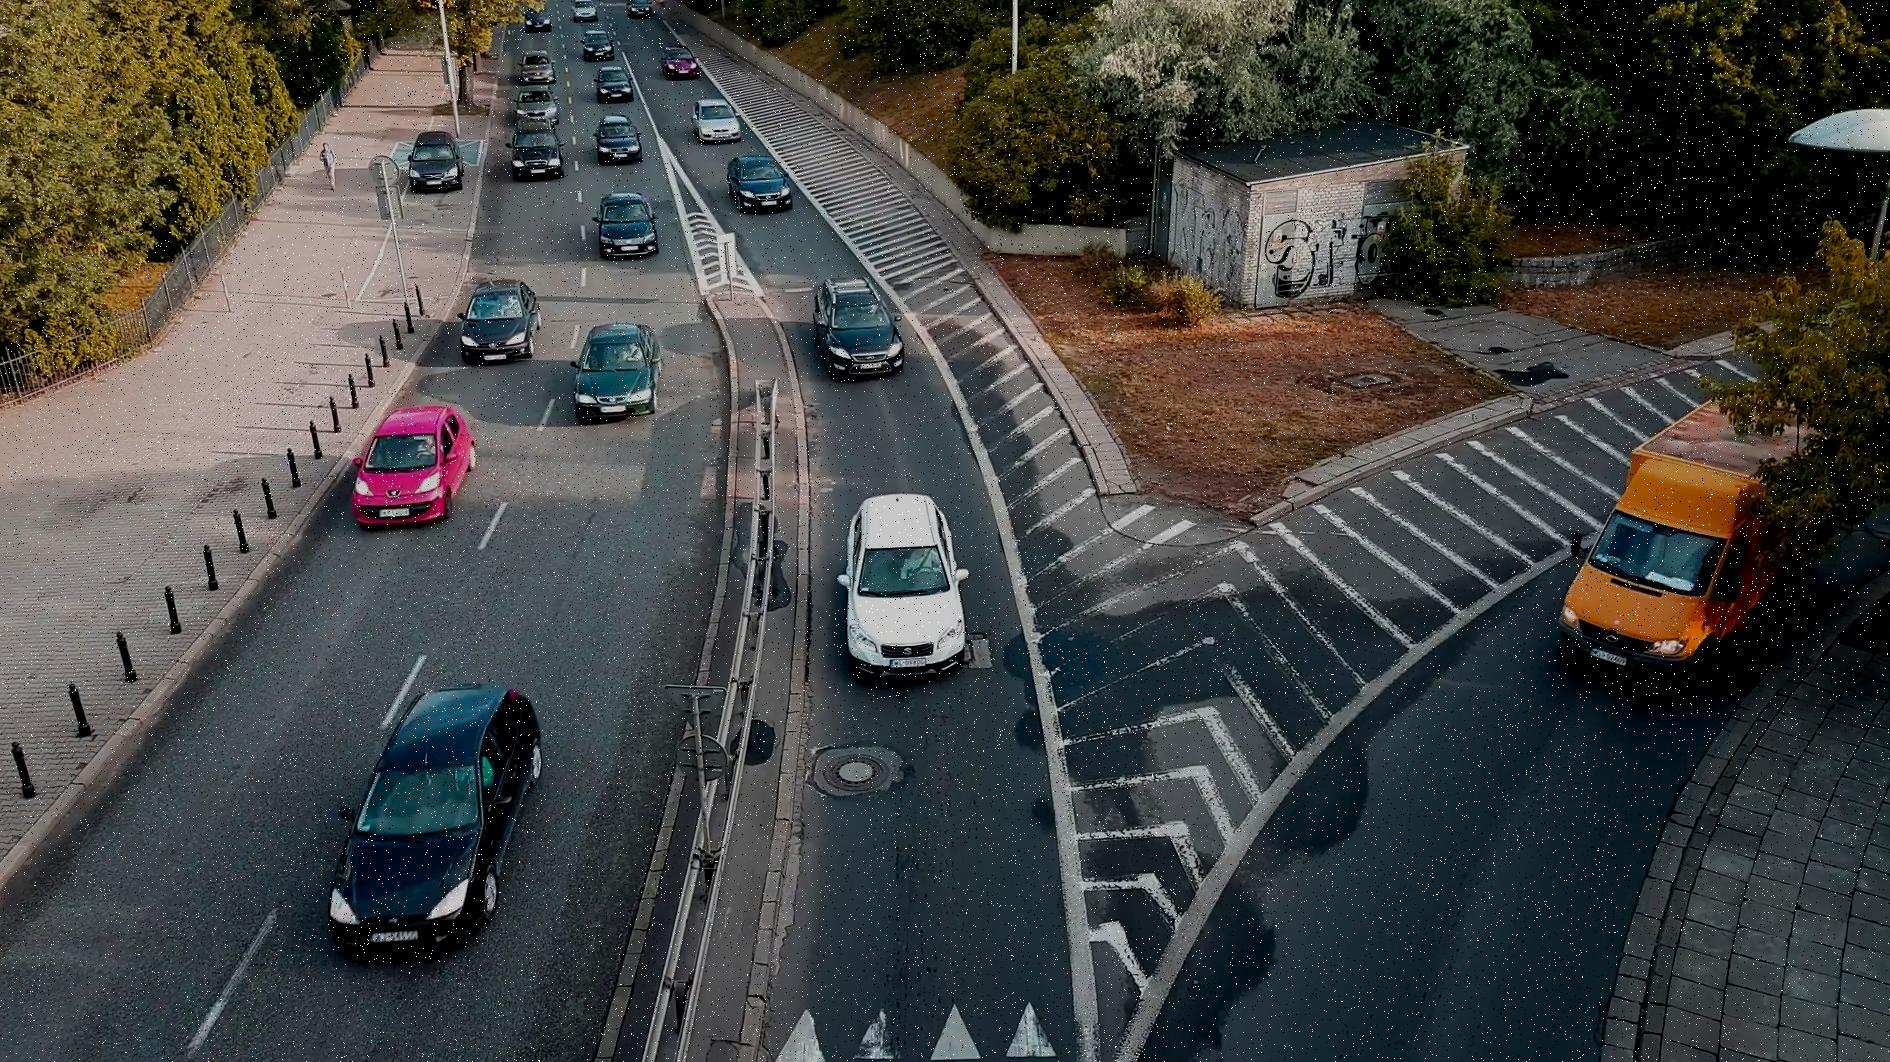car: (319, 675, 550, 957), (832, 492, 975, 679), (350, 400, 482, 530), (558, 309, 671, 426), (810, 262, 902, 378), (462, 274, 540, 361), (593, 179, 662, 267), (723, 148, 798, 217), (405, 123, 470, 196), (505, 116, 567, 184), (588, 110, 650, 167), (688, 96, 745, 148), (589, 61, 637, 106), (653, 40, 697, 87), (508, 78, 557, 119), (515, 45, 558, 80), (576, 26, 611, 57)
truck: (1545, 353, 1871, 683)
